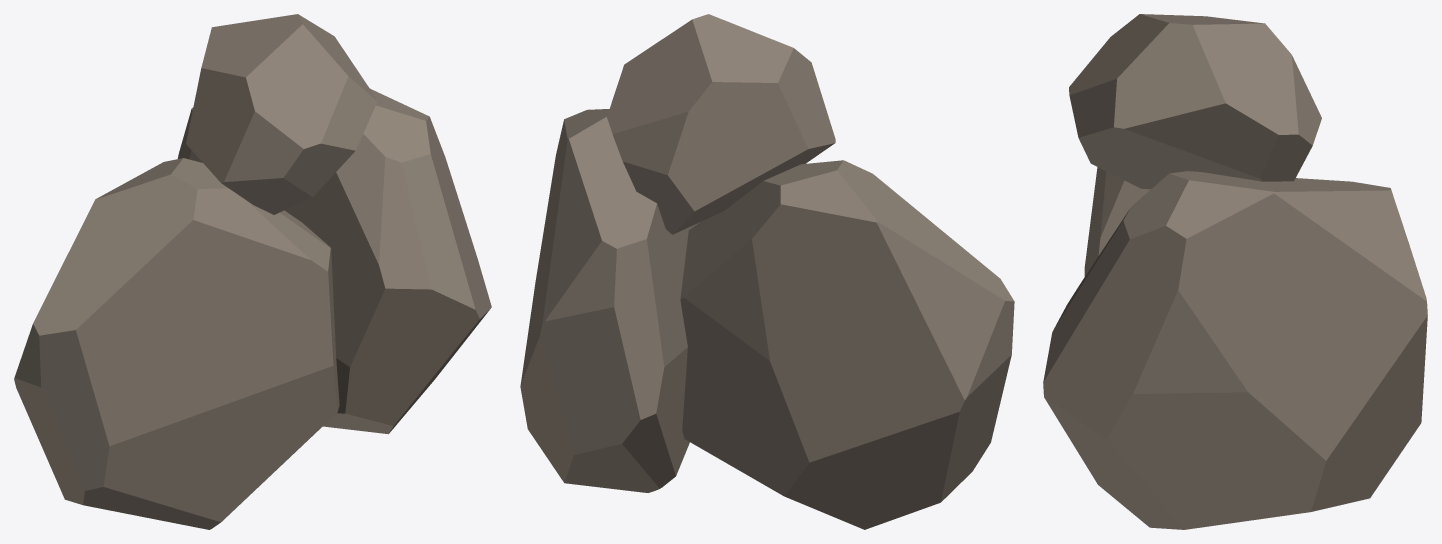
Rendered from stone7.dae.
3 renders of one model, left to right at view 1: azimuth 30°, elevation 25°; view 2: azimuth 150°, elevation 25°; view 3: azimuth 270°, elevation 25°, orthographic. The views are drawn at different scales.
Parts seen in each view (by area): view 1: Rock Type2 02 mesh; view 2: Rock Type2 02 mesh; view 3: Rock Type2 02 mesh.
Boxes of the visible parts, x1,y1,x2,y2 form: Rock Type2 02 mesh: (14, 14, 491, 529); Rock Type2 02 mesh: (520, 14, 1014, 529); Rock Type2 02 mesh: (1043, 14, 1427, 529).
Bounding box in the file's own units: 3.37 × 2.31 × 3.39.
1 material, 1 textured.
